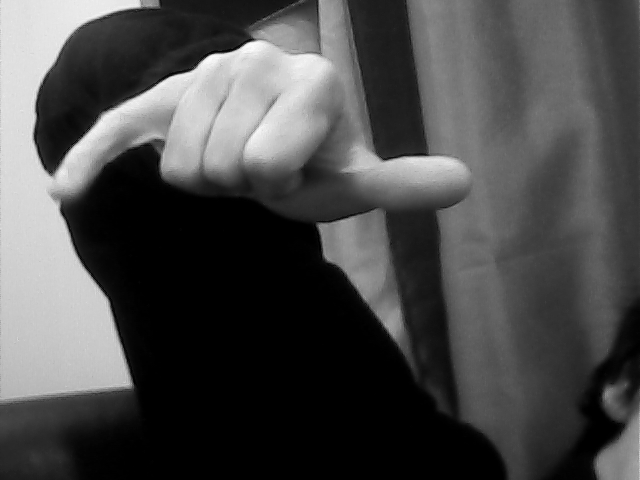aloha: (47, 38, 506, 221)
